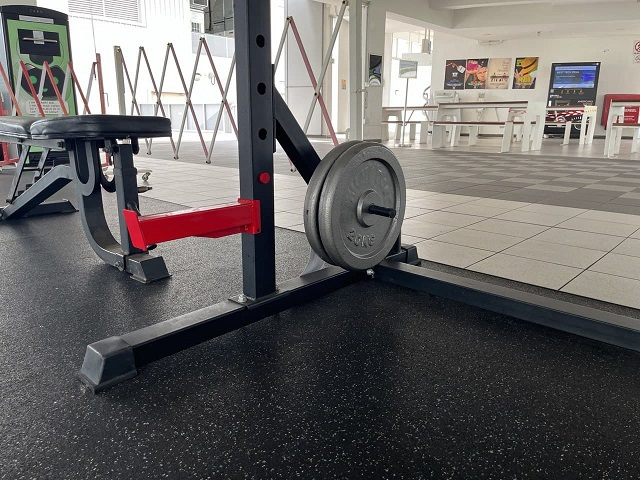weights: (302, 139, 407, 270)
